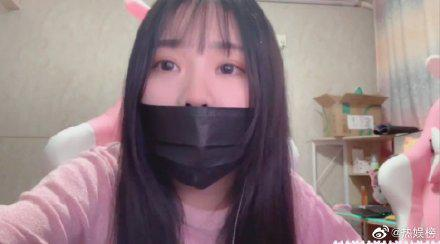WRONG: (142, 23, 256, 189)
